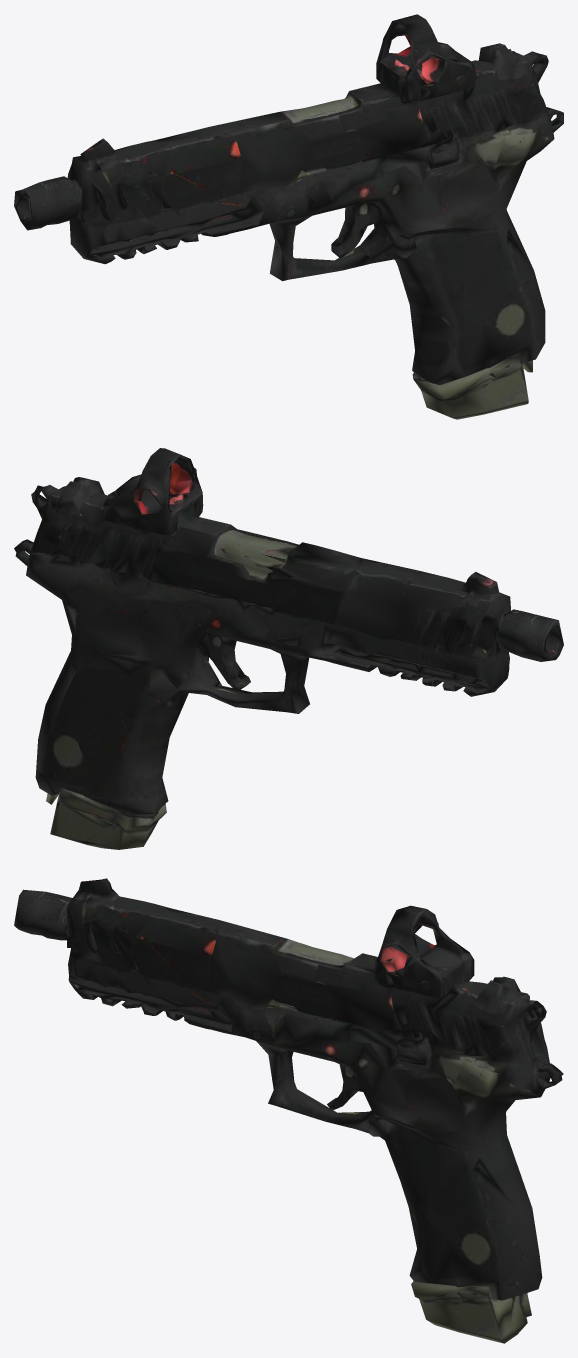
The model's file is gun_mp_lo.glb.
3 views of the same model, one above another, from view 1: azimuth 30°, elevation 25°; view 2: azimuth 150°, elevation 25°; view 3: azimuth 330°, elevation 25° (orthographic).
Size of the model in its own units: 1.9 by 1.36 by 0.2398.
Materials: 1 (1 with a texture image).
